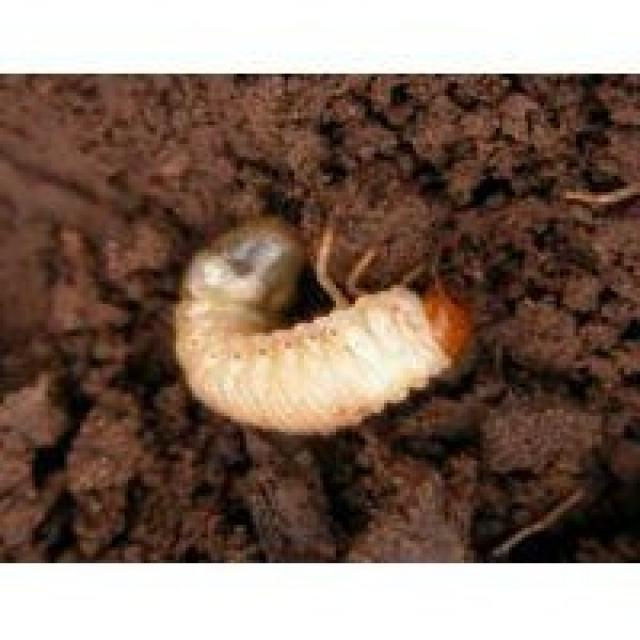grub: (161, 209, 475, 439)
